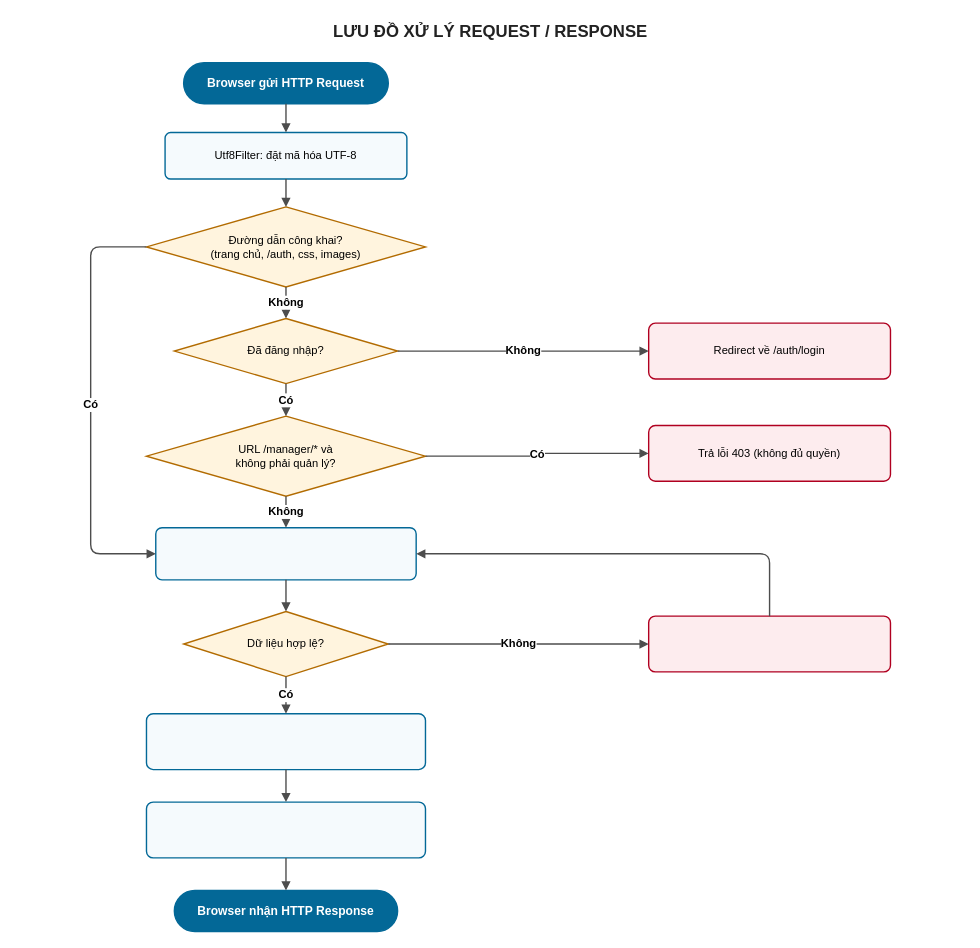
Some shapes in this 980 by 948 pixel diagram are drawn without their labels. Each missing label, with the centre of its shape:
DAO gửi SQL qua JDBC tới SQL Server, nhận kết quả (ResultSet): the point at 285,741
Forward JSP form kèm thông báo lỗi: the point at 769,643
Servlet đưa dữ liệu vào request, forward JSP (hoặc redirect): the point at 285,829
Servlet: đọc và kiểm tra (validate) tham số: the point at 285,553
